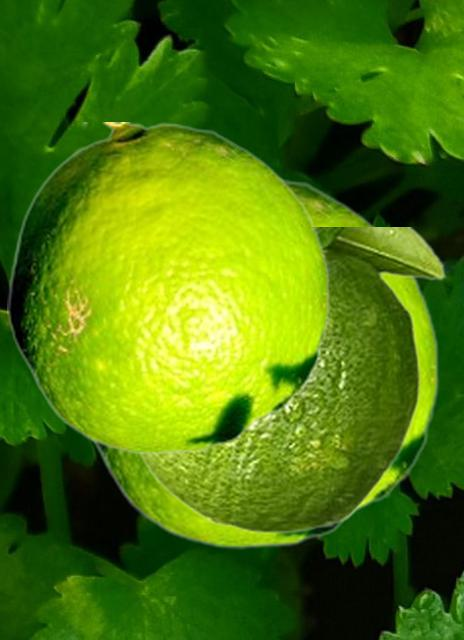dalandan: (87, 173, 438, 548), (7, 122, 329, 454), (136, 227, 445, 533)
